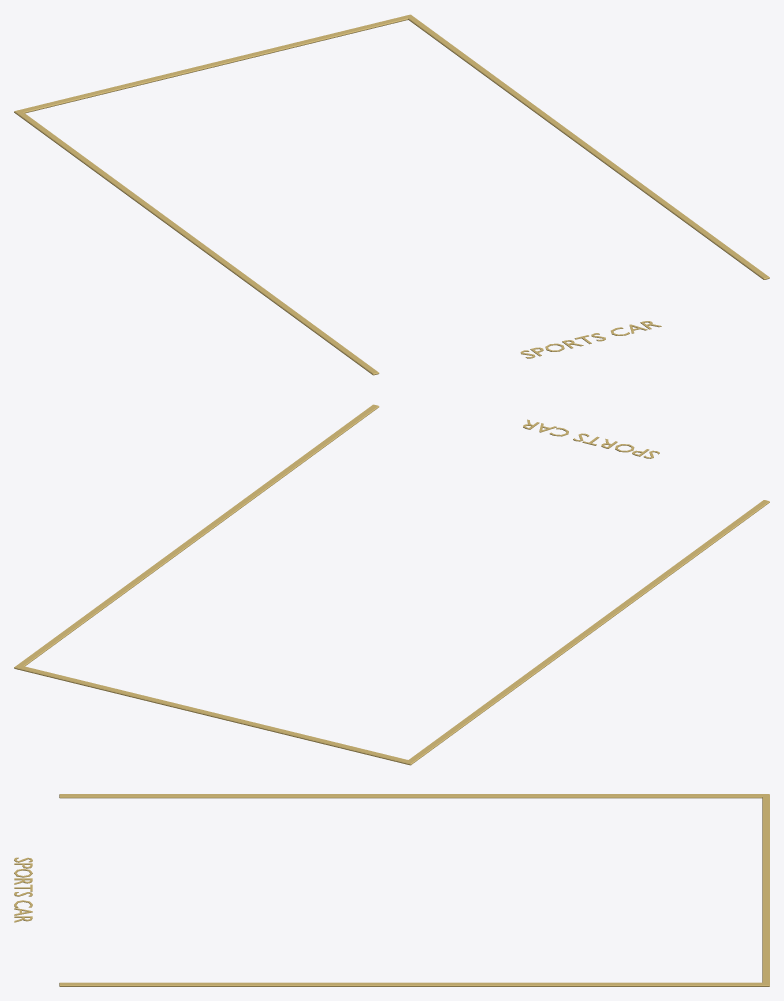
Rendered from sports_car_bay.glb.
The picture shows the model from 3 angles, top to bottom: view 1: azimuth 30°, elevation 25°; view 2: azimuth 150°, elevation 25°; view 3: azimuth 270°, elevation 25°; orthographic projection.
Visible parts, largest first — view 1: sports_car_bay; view 2: sports_car_bay; view 3: sports_car_bay.
Boxes of the visible parts, x1,y1,x2,y2 form: sports_car_bay: [14, 14, 769, 375]; sports_car_bay: [14, 404, 769, 765]; sports_car_bay: [14, 794, 769, 986].
Bounding box in the file's own units: 2.7 × 0.012 × 4.49.
